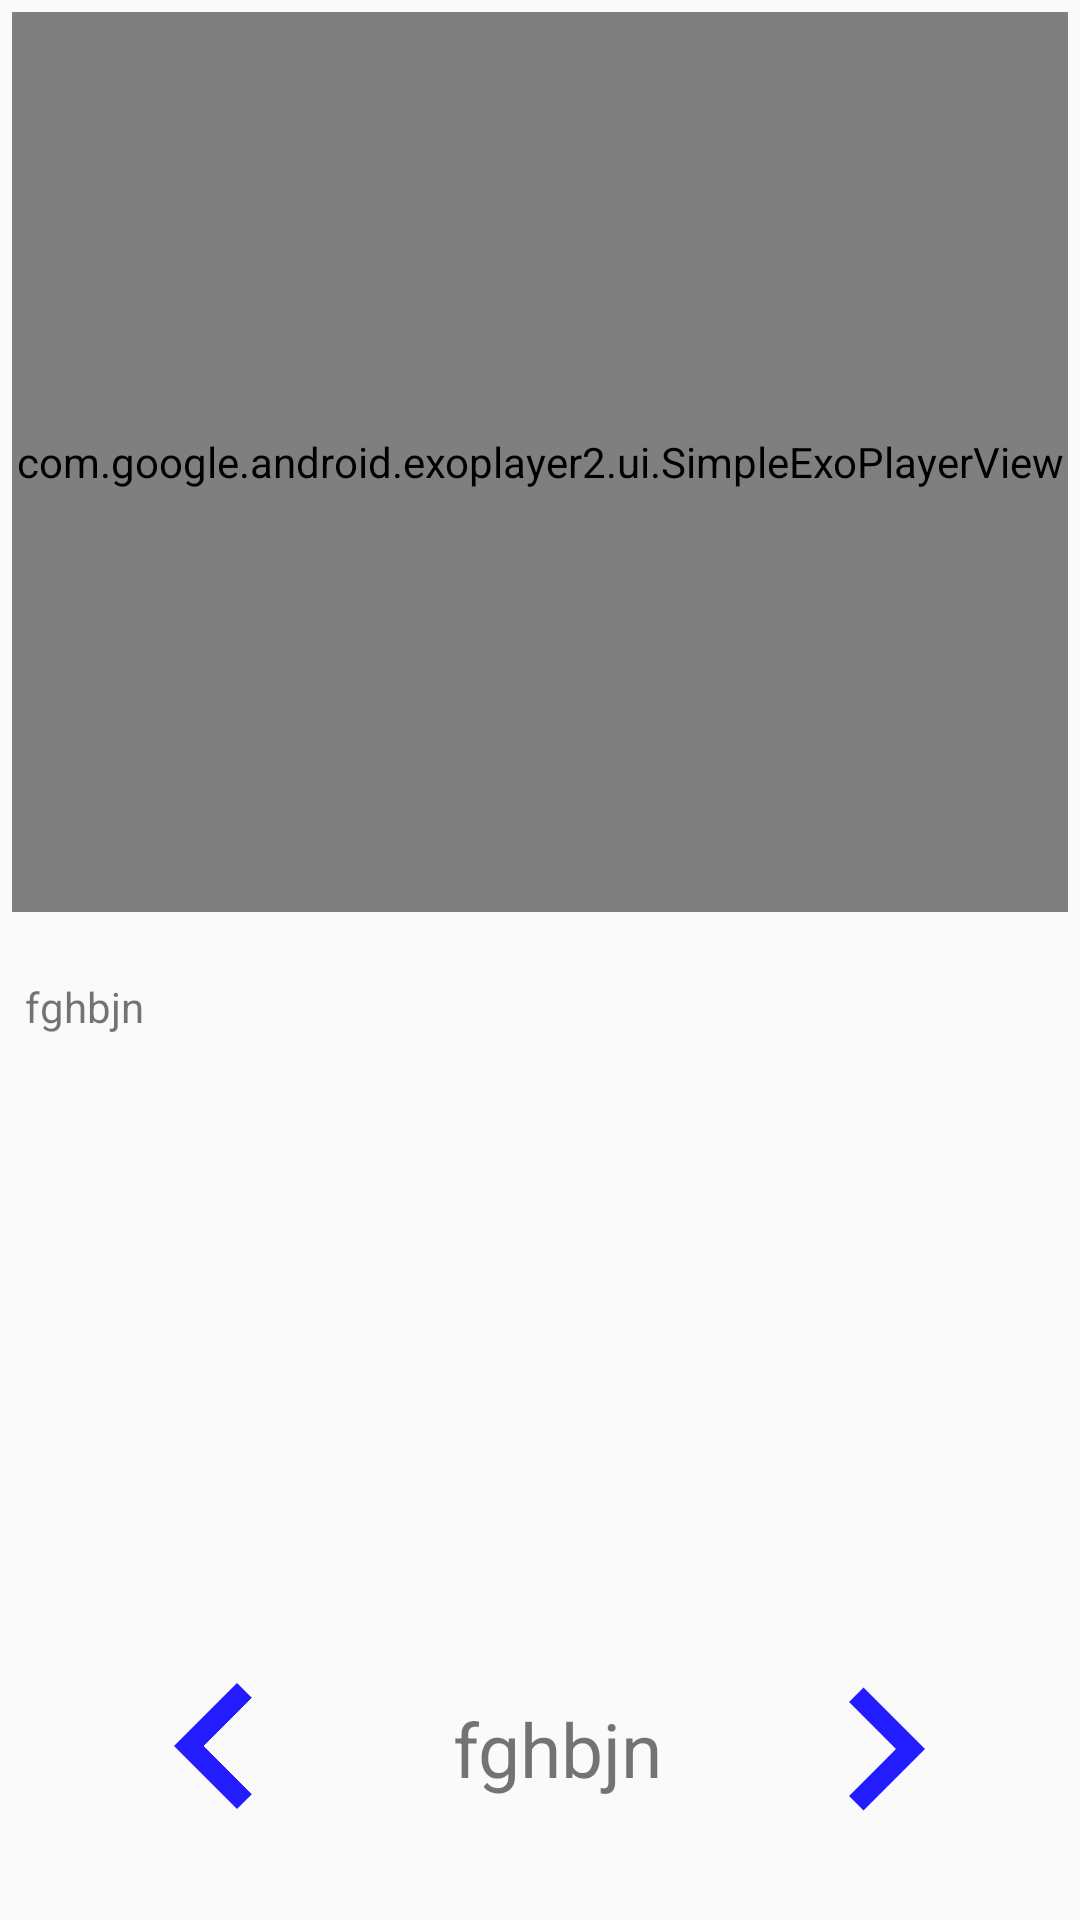

Screen size 1080px×1920px. Icon name, then its center in pixels as point (x, y):
chevron left: point (213, 1746)
chevron right: point (887, 1749)
